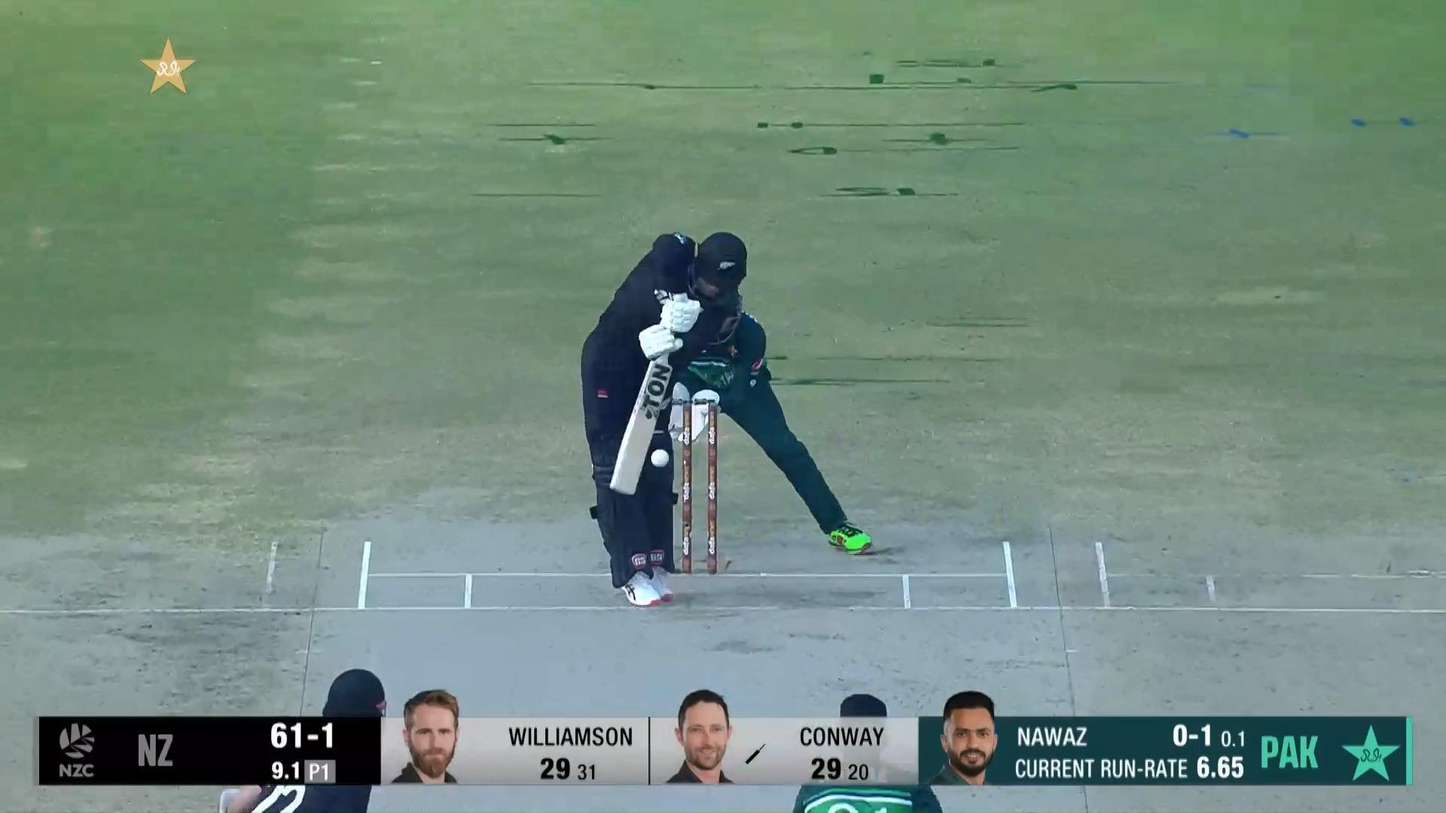BM 1: (580, 225, 750, 609)
BO: (791, 692, 945, 813)
